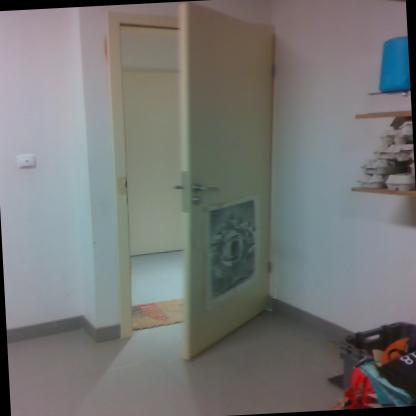semi: (98, 0, 305, 367)
